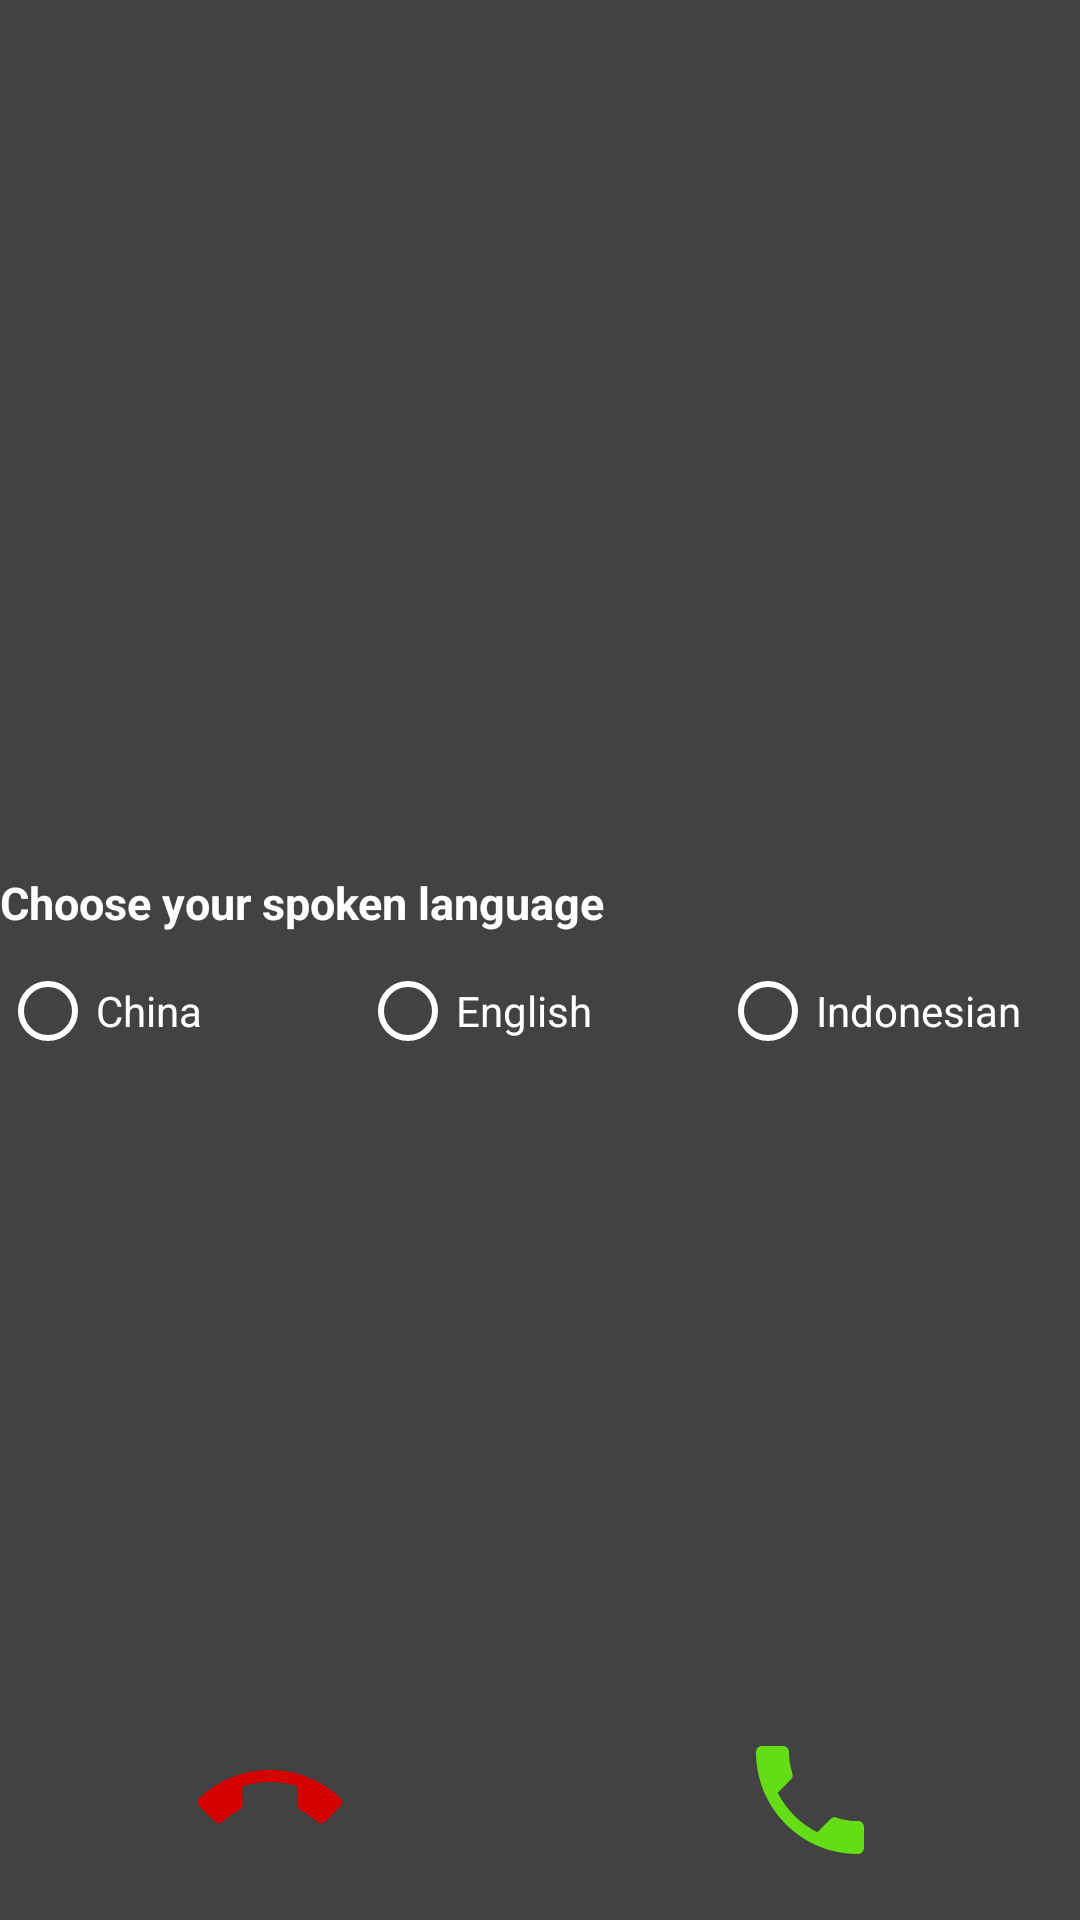

Icon bounding boxes for this 1080px×1920px phone screenshot, format (x1,y1,x2,y2):
call: (756,1746,864,1854)
call end: (198,1770,342,1824)
